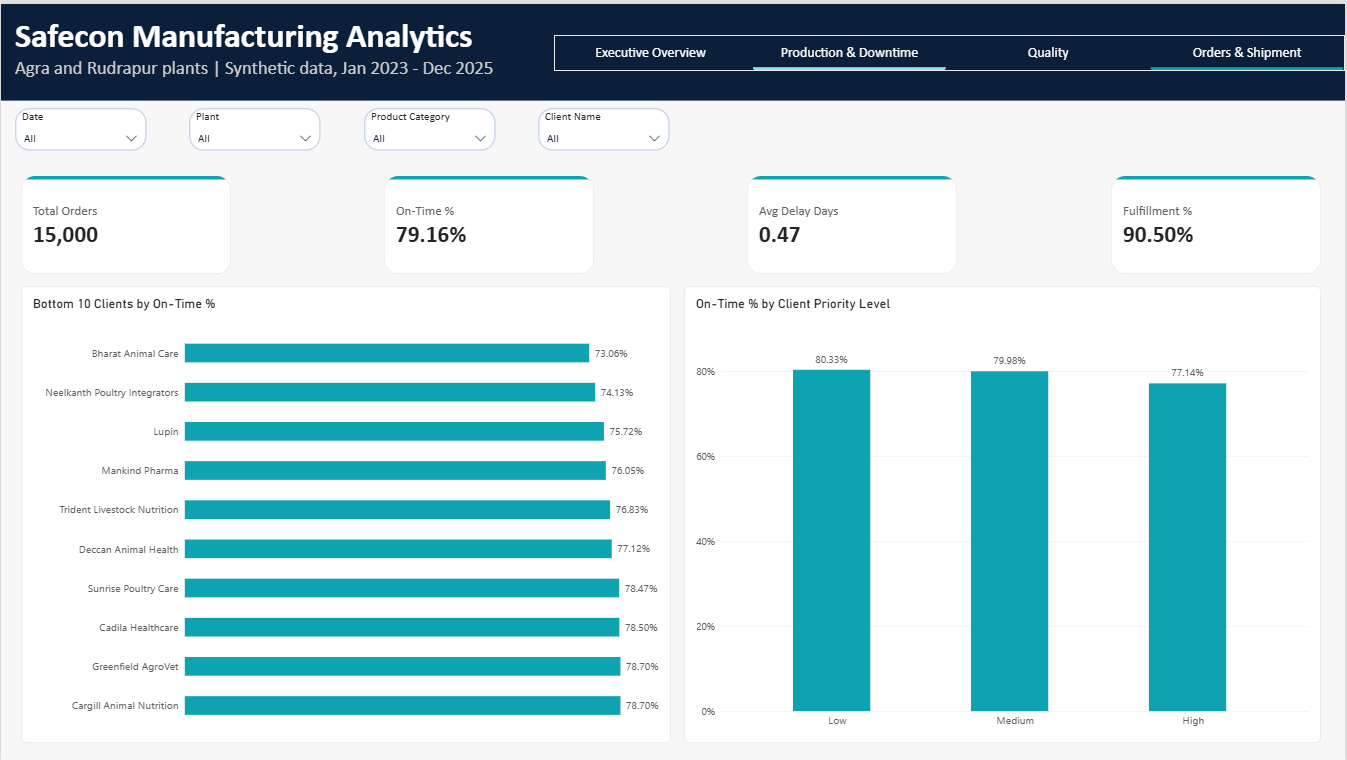

Layout of this report page (visuals, bound fields, positions):
{"tool":"powerbi","page":{"name":"Orders & Shipment","canvas":[1920,1080],"ordinal":3},"visuals":[{"type":"cardVisual","fields":{"Data":["_measure.Total Orders"]},"box":[28.3,245,300,140],"z":0},{"type":"cardVisual","fields":{"Data":["_measure.On-Time %"]},"box":[547.2,245,300,140],"z":1000},{"type":"cardVisual","fields":{"Data":["_measure.Avg Delay Days"]},"box":[1066.1,245,300,140],"z":2000},{"type":"cardVisual","fields":{"Data":["_measure.Fulfillment %"]},"box":[1585,245,300,140],"z":3000},{"type":"clusteredBarChart","title":"Bottom 10 Clients by On-Time %","fields":{"Category":["dim_client.Client_Name"],"Y":["_measure.On-Time %"]},"box":[28.3,403.3,928.3,653.3],"z":4000},{"type":"clusteredColumnChart","title":"On-Time % by Client Priority Level","fields":{"Category":["dim_client.Priority_Level"],"Y":["_measure.On-Time %"]},"box":[975,403.3,910,653.3],"z":5000},{"type":"shape","box":[0,0,1920,138.3],"z":6000},{"type":"textbox","box":[20,15,770,133.3],"z":7000},{"type":"slicer","fields":{"Values":["dim_date.Year"]},"box":[20,148.8,187.7,61],"z":9000},{"type":"slicer","fields":{"Values":["dim_plant.Plant"]},"box":[269.2,148.3,187.7,61],"z":10000},{"type":"slicer","fields":{"Values":["dim_product.Product_Category"]},"box":[518.5,148.3,187.7,61],"z":11000},{"type":"slicer","fields":{"Values":["dim_client.Client_Name"]},"box":[767.8,149,187.7,61],"z":12000},{"type":"pageNavigator","box":[790,45,1130,50],"z":12001}]}

Visuals, with their boxes in screenshot pixels (x1, y1, x2, y2), scaled from the page's 1920x1080 canvas onto the 1347x760 screenshot:
cardVisual - _measure.Total Orders: rect(20, 172, 230, 271)
cardVisual - _measure.On-Time %: rect(384, 172, 594, 271)
cardVisual - _measure.Avg Delay Days: rect(748, 172, 958, 271)
cardVisual - _measure.Fulfillment %: rect(1112, 172, 1322, 271)
"Bottom 10 Clients by On-Time %" clusteredBarChart: rect(20, 284, 671, 744)
"On-Time % by Client Priority Level" clusteredColumnChart: rect(684, 284, 1322, 744)
shape: rect(0, 0, 1346, 97)
textbox: rect(14, 11, 554, 104)
slicer - dim_date.Year: rect(14, 105, 146, 148)
slicer - dim_plant.Plant: rect(189, 104, 321, 147)
slicer - dim_product.Product_Category: rect(364, 104, 495, 147)
slicer - dim_client.Client_Name: rect(539, 105, 670, 148)
pageNavigator: rect(554, 32, 1346, 67)
